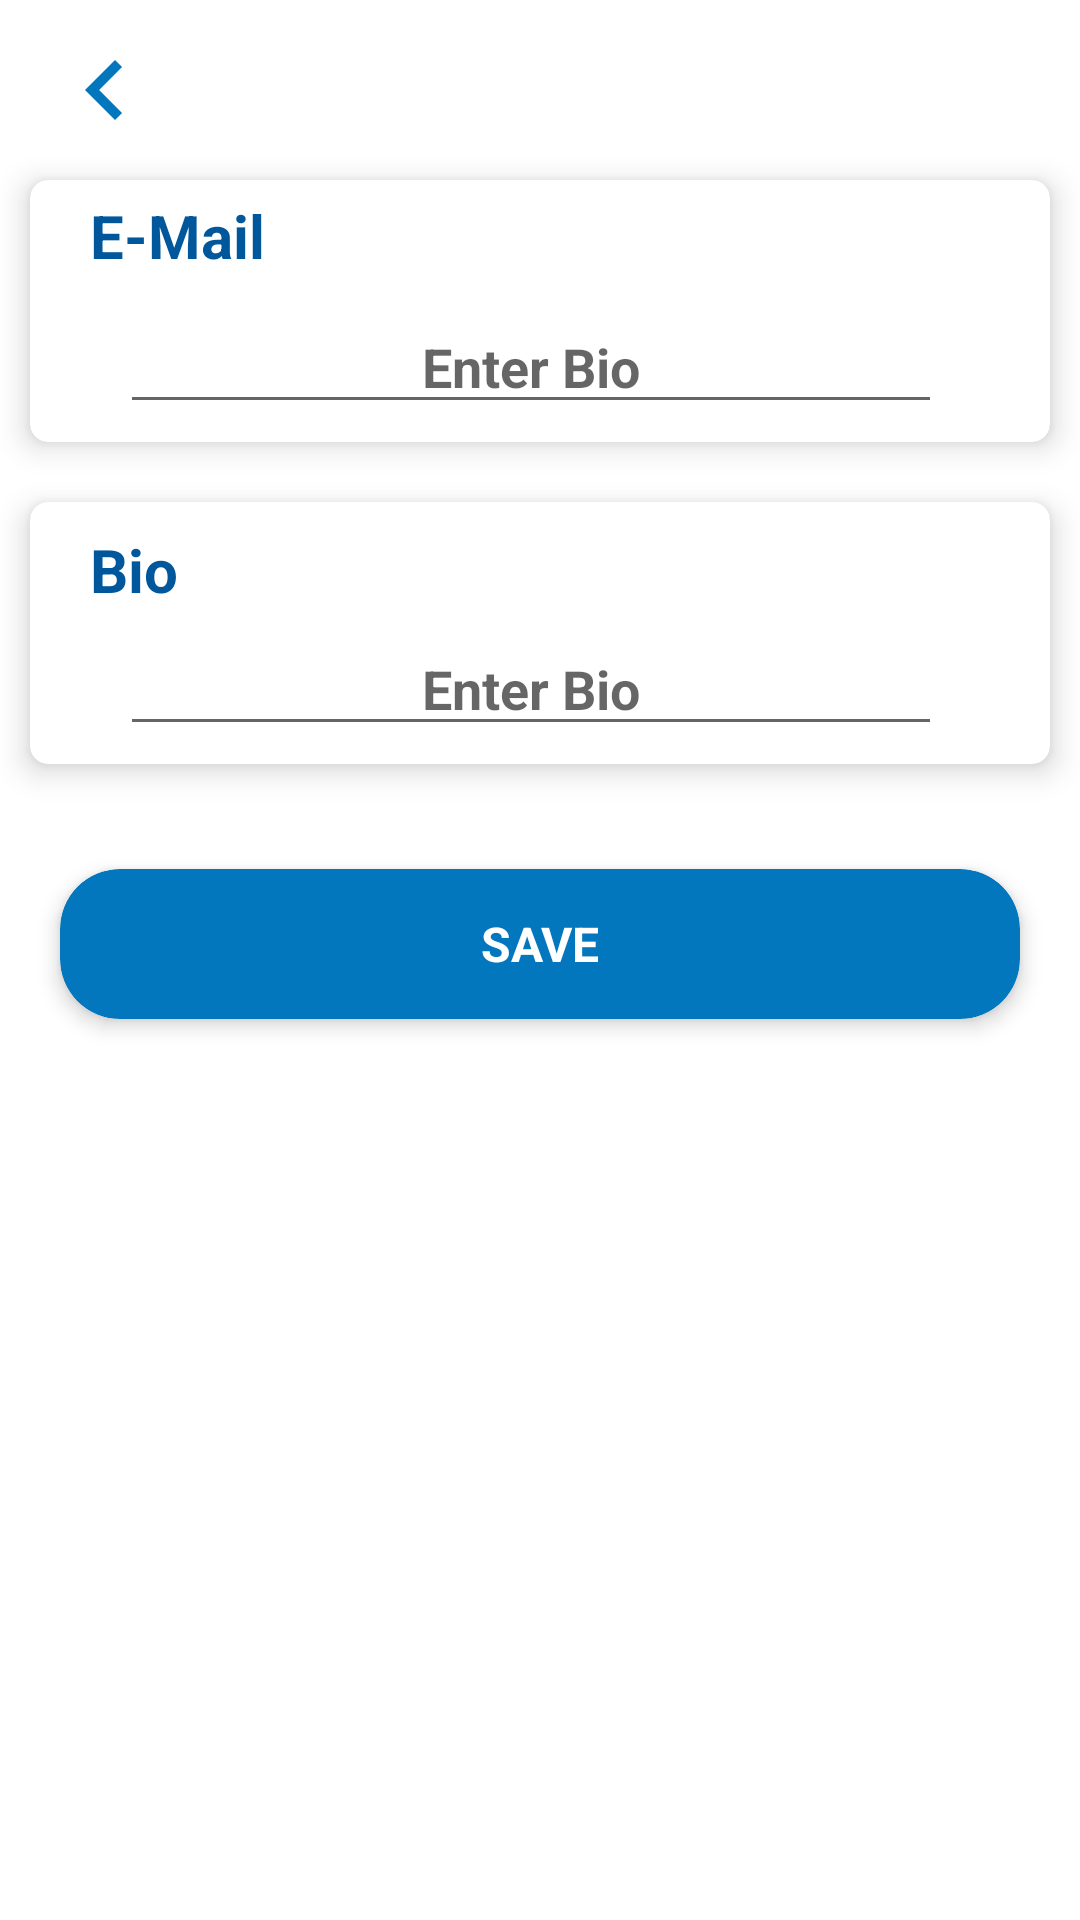

Icon bounding boxes for this 1080×1920 phone screenshot, format (x1, y1, x2, y2):
chevron left: (85, 60, 122, 120)
